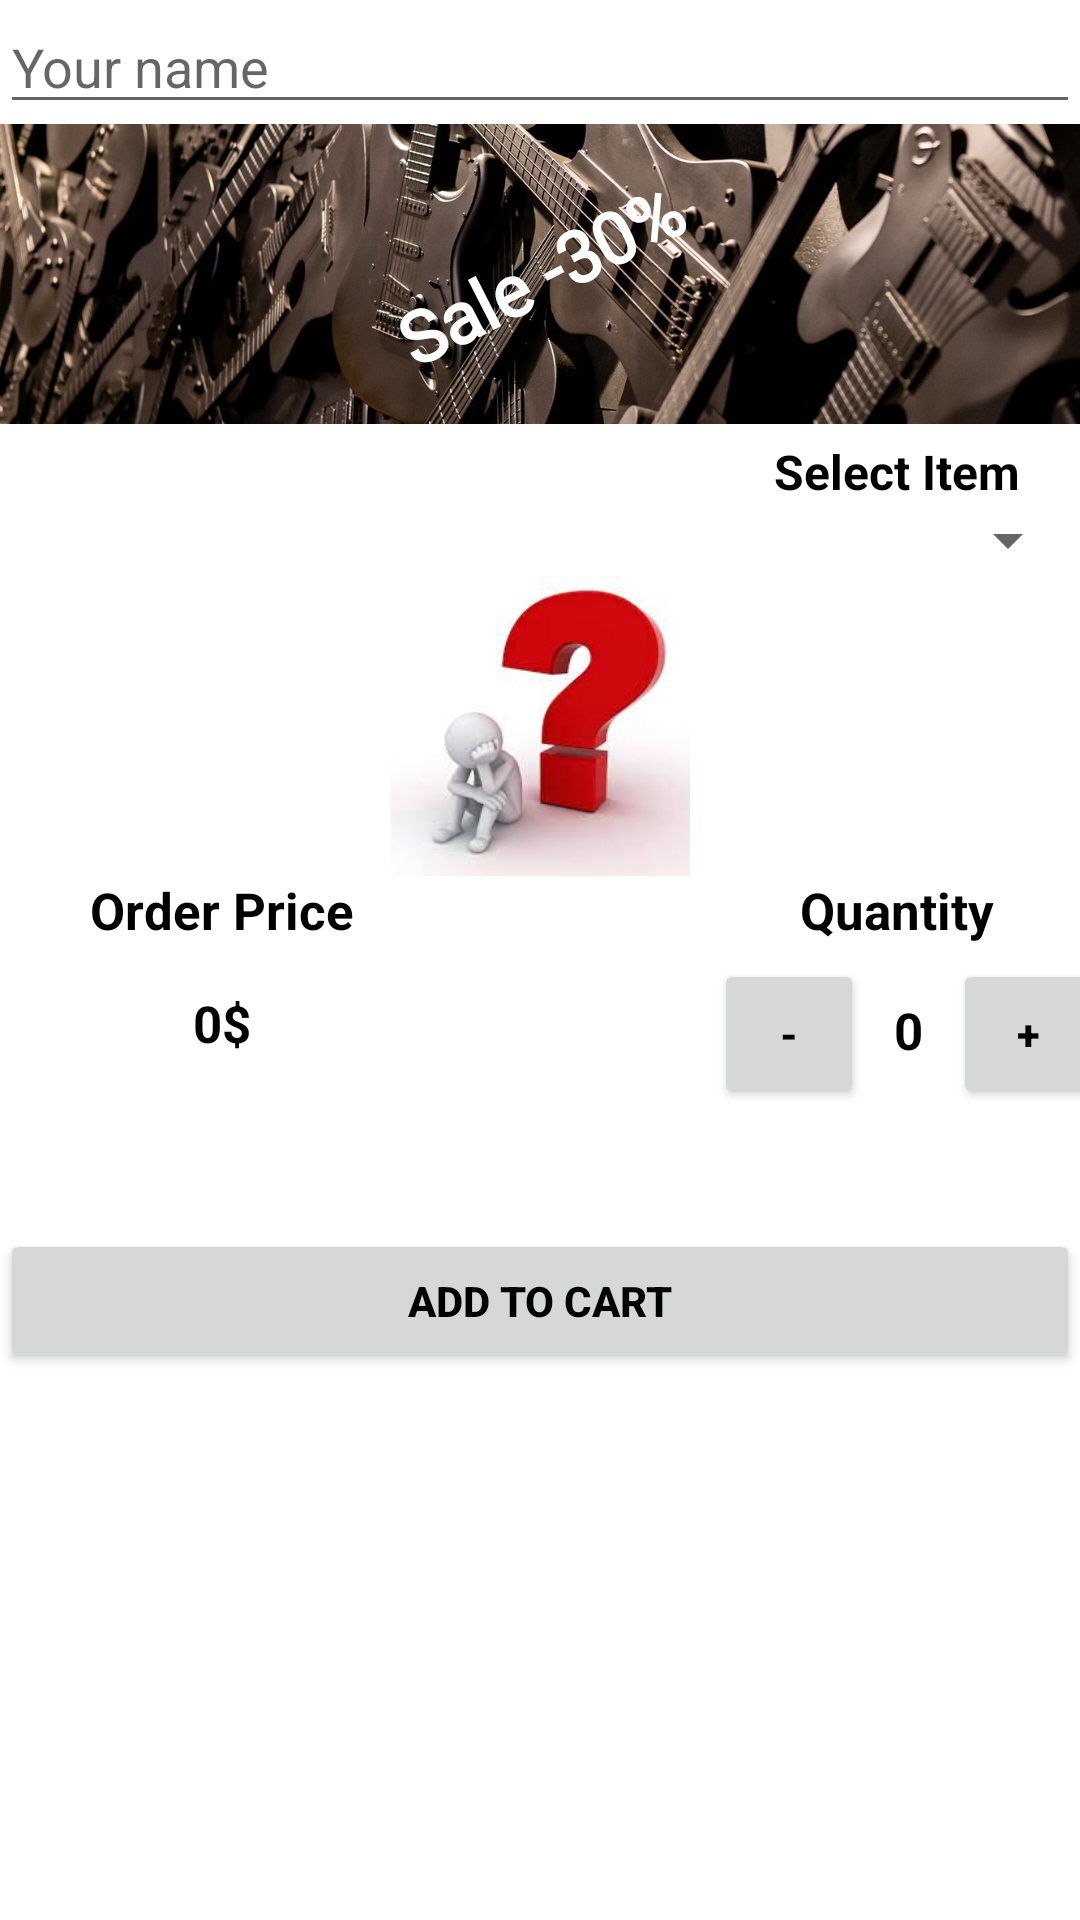

Screen size 1080×1920. Icon name, then its box in pixels as (x1, y1, x2, y2):
problem: (428, 589, 690, 870)
